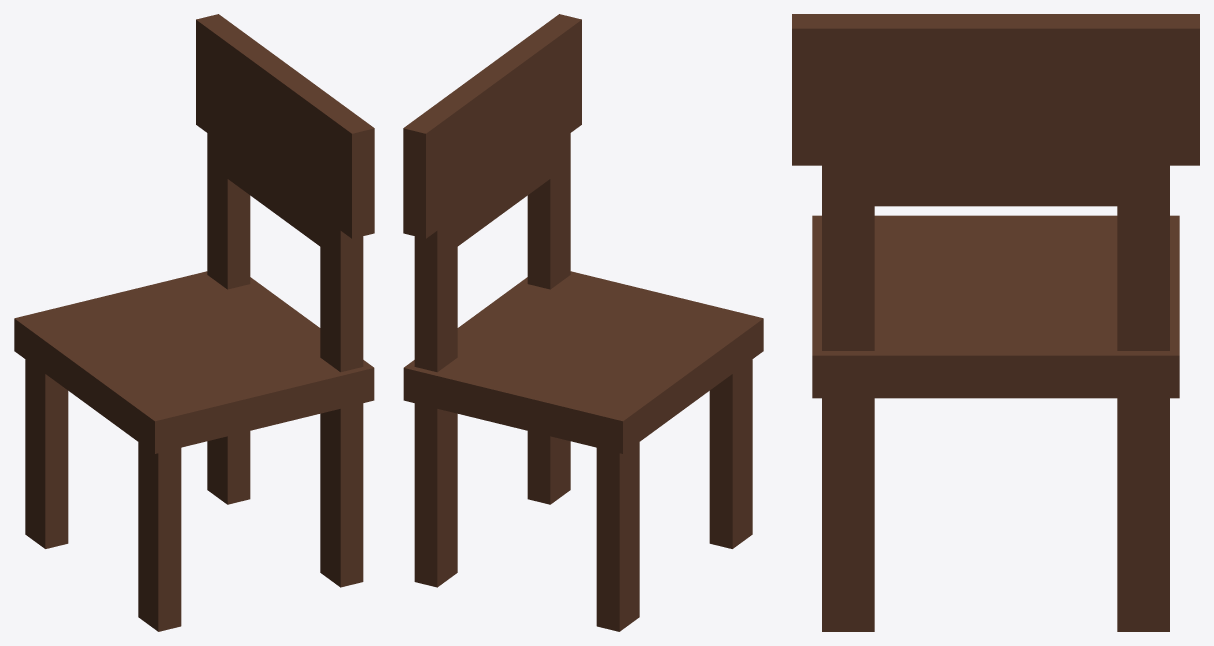
The model's file is lameChairTile.glb.
The picture shows the model from 3 angles, left to right: view 1: azimuth 30°, elevation 25°; view 2: azimuth 150°, elevation 25°; view 3: azimuth 270°, elevation 25°; orthographic projection. The views are drawn at different scales.
Visible parts, largest first — view 1: Cylinder; view 2: Cylinder; view 3: Cylinder.
Part boxes in pixels (x1,y1,x2,y2): Cylinder: (14, 14, 374, 631); Cylinder: (403, 14, 763, 631); Cylinder: (792, 14, 1199, 631).
Size of the model in its own units: 0.3484 by 0.7009 by 0.4293.
1 material, 1 textured.
